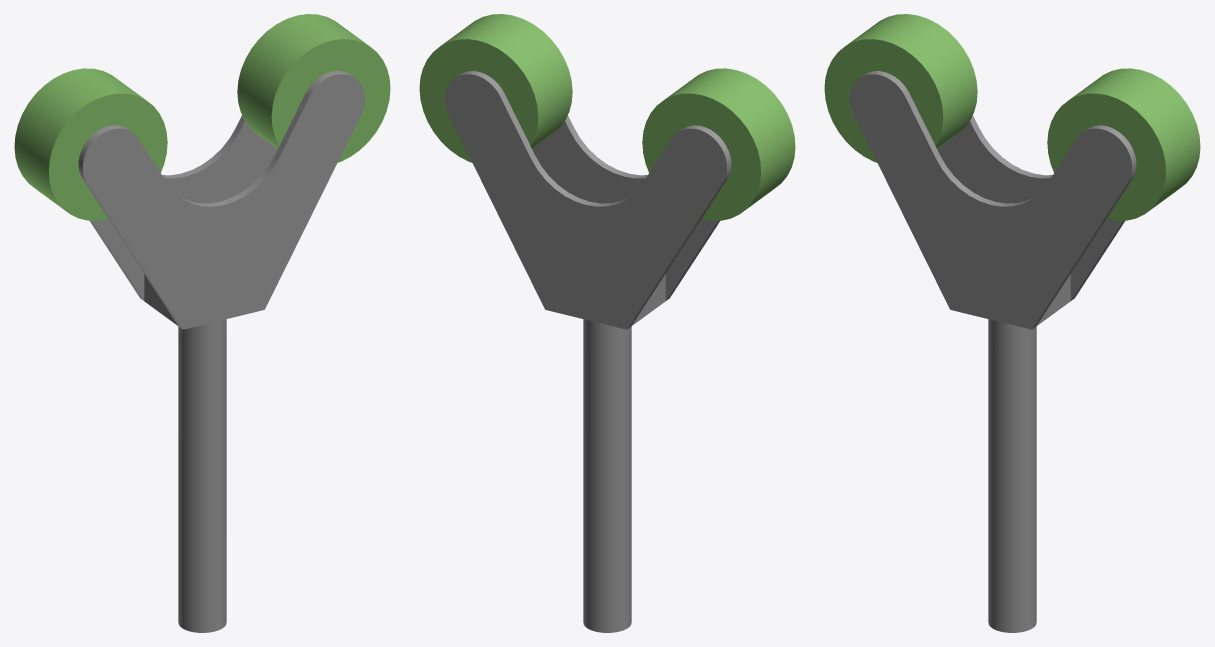
3 renders of one model, left to right at view 1: azimuth 30°, elevation 25°; view 2: azimuth 150°, elevation 25°; view 3: azimuth 330°, elevation 25°, orthographic.
Parts seen in each view (by area): view 1: Wrist Shaft; view 2: Wrist Shaft; view 3: Wrist Shaft.
Part boxes in pixels (x1,y1,x2,y2): Wrist Shaft: (14,14,390,632); Wrist Shaft: (419,14,795,632); Wrist Shaft: (824,14,1200,632).
Bounding box in the file's own units: 0.2921 × 0.4635 × 0.0635.
